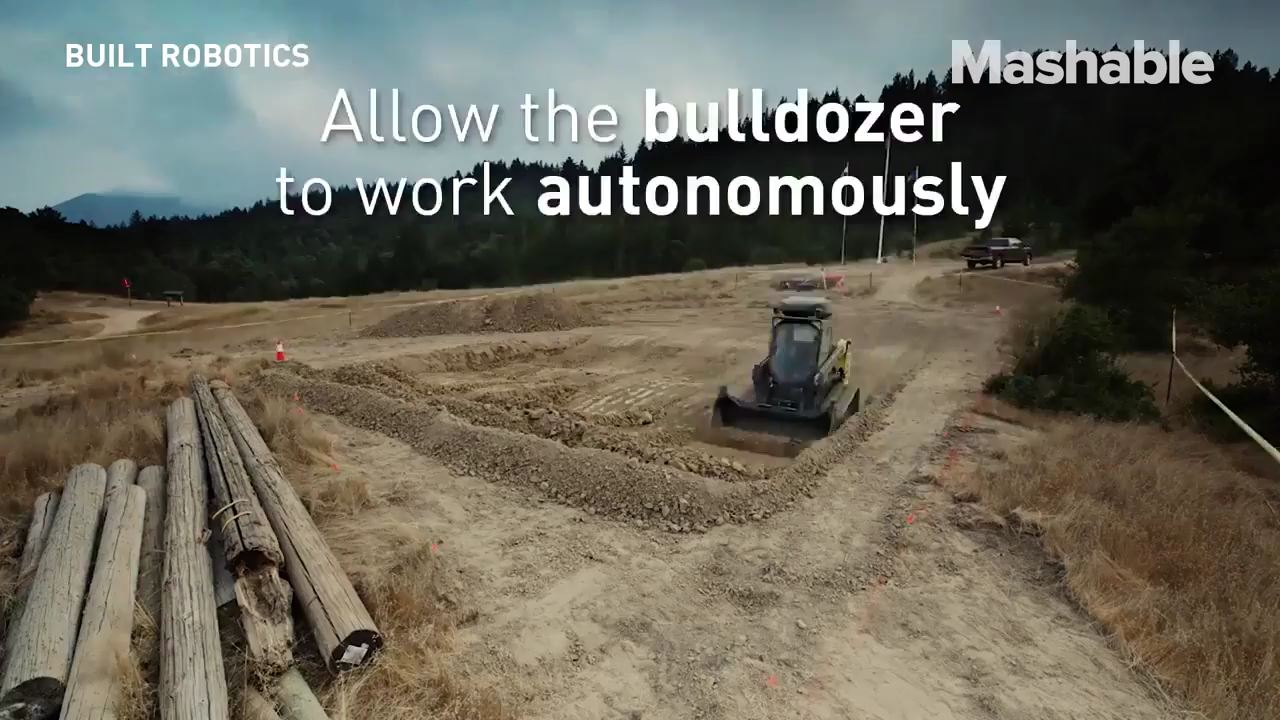con_eq: (712, 290, 859, 440)
